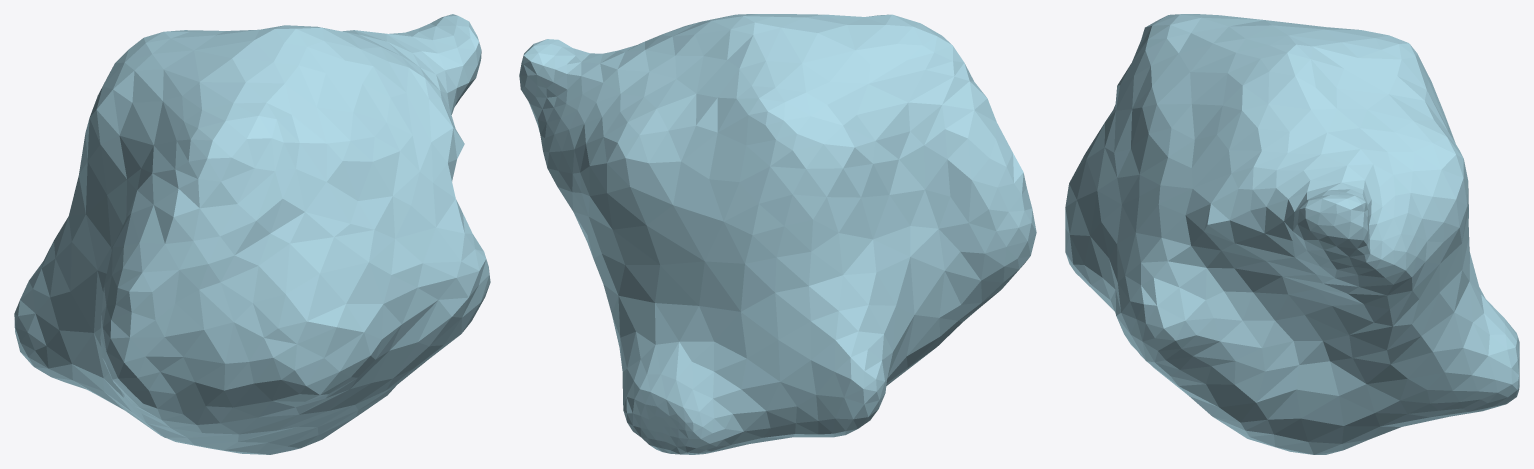
Rendered from livertumor05.obj.
3 renders of one model, left to right at view 1: azimuth 30°, elevation 25°; view 2: azimuth 150°, elevation 25°; view 3: azimuth 270°, elevation 25°, orthographic. The views are drawn at different scales.
Parts seen in each view (by area): view 1: grp1; view 2: grp1; view 3: grp1.
Part boxes in pixels (<box>): grp1: <box>14,14,490,454</box>; grp1: <box>519,14,1036,454</box>; grp1: <box>1065,14,1519,454</box>.
Size of the model in its own units: 31.86 by 27.94 by 28.8.
